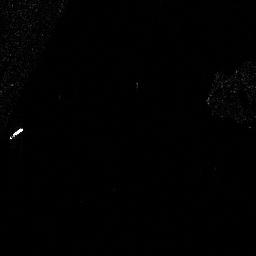ship: (8, 127, 24, 140)
